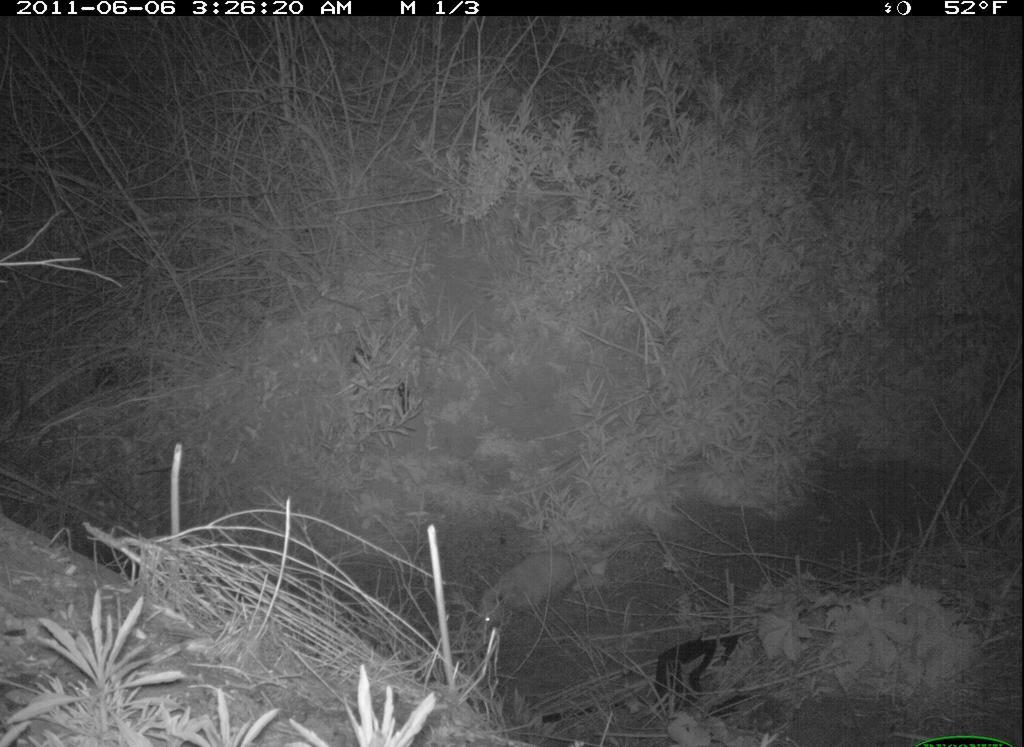opossum: (473, 525, 643, 644)
